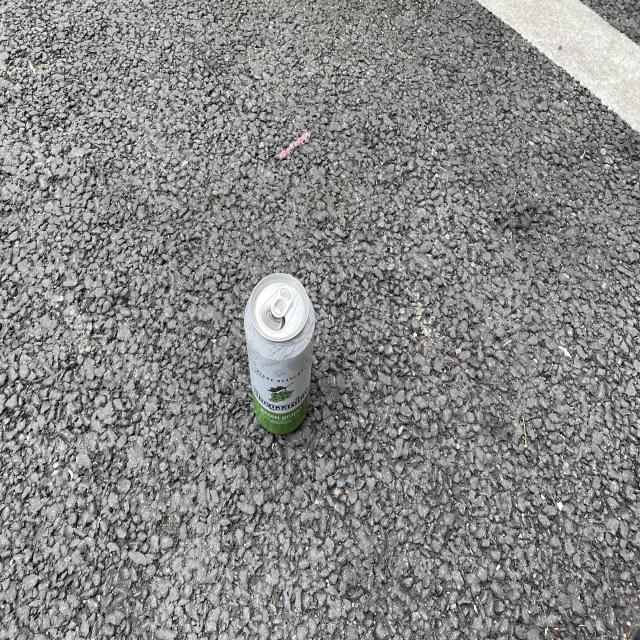can: (244, 273, 315, 434)
